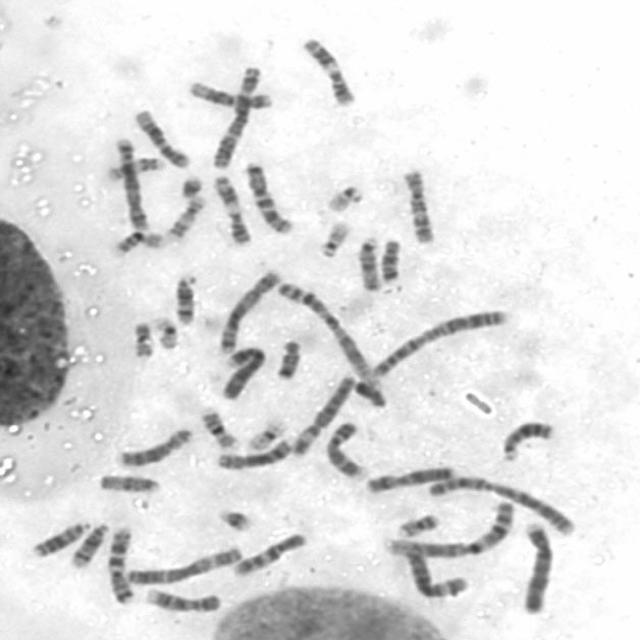A1: (272, 278, 383, 385), (380, 497, 515, 559)
A2: (368, 306, 509, 378), (426, 473, 578, 538)
A3: (207, 63, 263, 170), (120, 542, 246, 586)
B4: (518, 519, 555, 614), (217, 343, 268, 401)
B5: (213, 265, 283, 356), (111, 135, 150, 231)
C10: (227, 530, 309, 578), (401, 165, 436, 246)
C11: (298, 34, 356, 109), (210, 172, 254, 247)
C12: (132, 106, 192, 170), (185, 78, 273, 110)
C6: (287, 370, 357, 458), (400, 540, 470, 599)
C7: (240, 159, 294, 236), (104, 522, 138, 606)
C8: (113, 424, 194, 469), (212, 432, 296, 472)
C9: (323, 419, 368, 480), (142, 586, 223, 614)
D13: (498, 417, 556, 463), (28, 518, 92, 559)
D14: (66, 520, 110, 567), (170, 270, 200, 328)
D15: (94, 470, 163, 496), (355, 233, 384, 293)
E16: (197, 406, 240, 451), (110, 228, 165, 258)
E17: (163, 192, 207, 242), (103, 154, 166, 182)
E18: (273, 338, 304, 381), (376, 236, 404, 283)
F19: (243, 414, 290, 452), (150, 314, 181, 352)
F20: (393, 510, 442, 539), (129, 318, 156, 361)
G21: (214, 504, 254, 533), (176, 172, 204, 200)
G22: (315, 218, 351, 259), (323, 182, 365, 214)
X: (362, 463, 458, 494)
